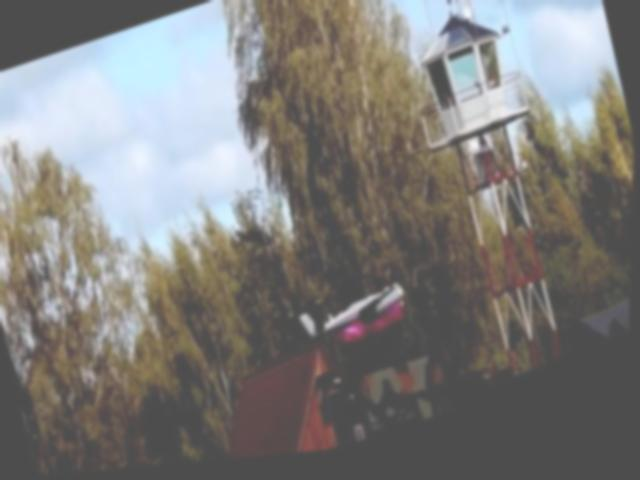iha: (298, 276, 416, 348)
